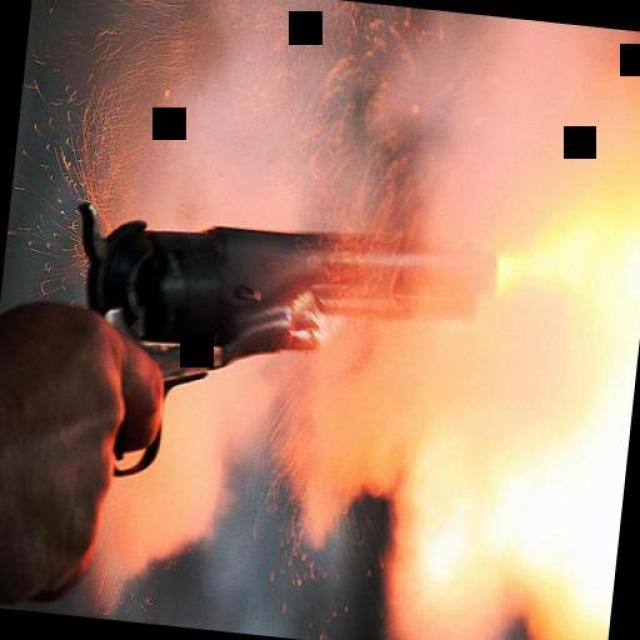gun: (54, 185, 502, 454)
